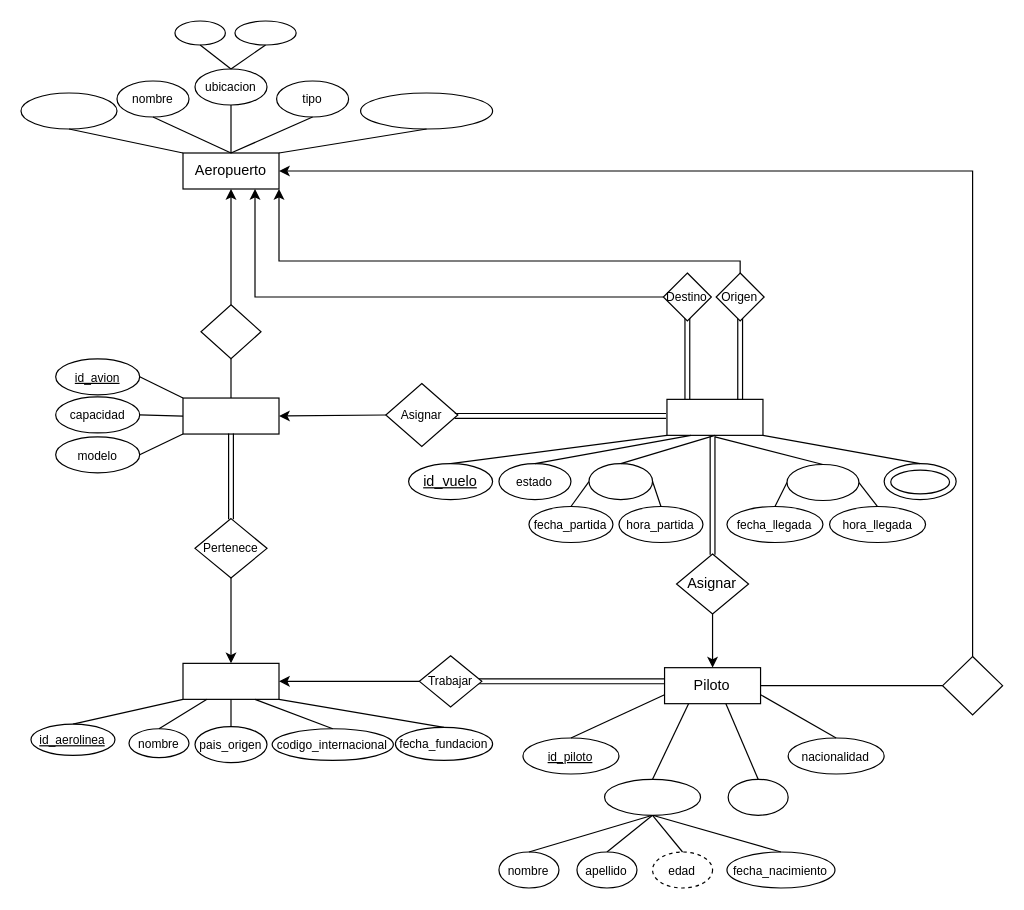
The diagram is 1024 pixels wide and 910 high, and some of its shapes have lost their labels. The centre of each missing label's shape, as x and y in pixels:
Aerolínea: the point at 230,680
Avión: the point at 230,415
capacidad _terminales: the point at 426,110
ciudad: the point at 265,32
Contiene: the point at 230,331
dato_ personales: the point at 652,796
eta: the point at 822,482
etd: the point at 620,481
id_aeropuerto: the point at 68,110
licencia: the point at 757,796
pais: the point at 199,32
precio: the point at 920,481
Se encuentra: the point at 972,685
Vuelo: the point at 714,416
